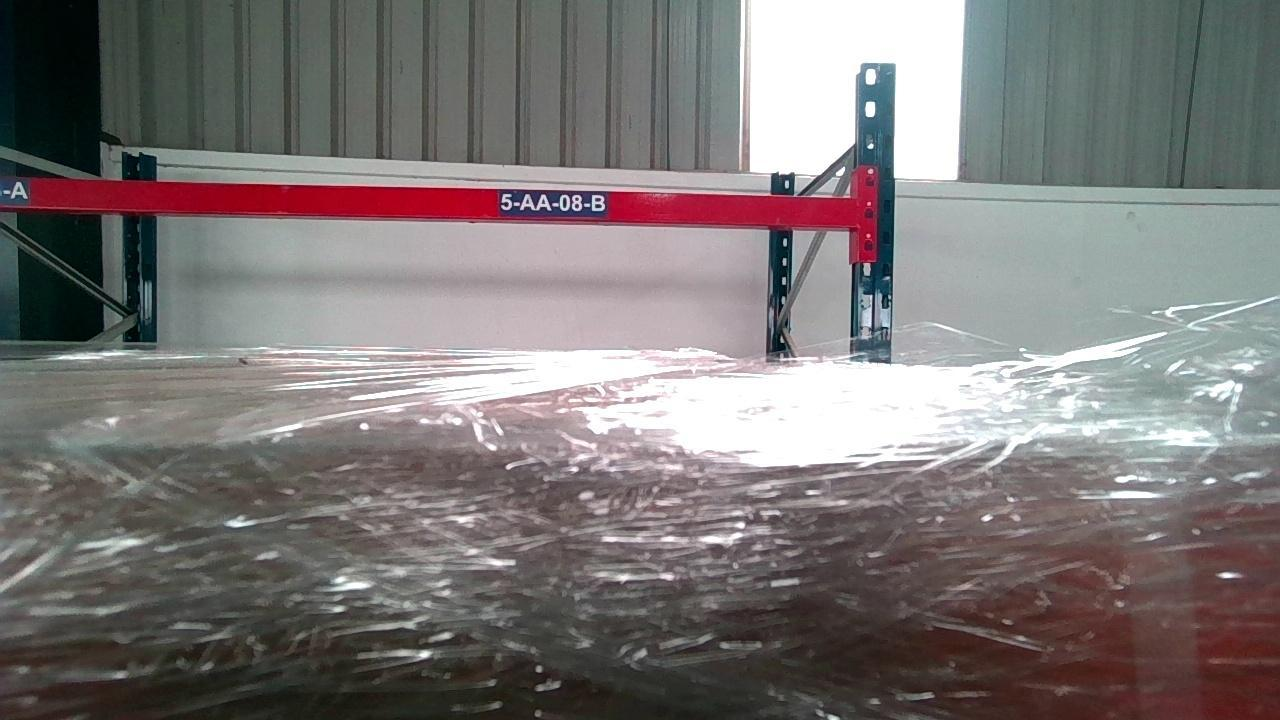h_rack: (0, 176, 865, 226)
